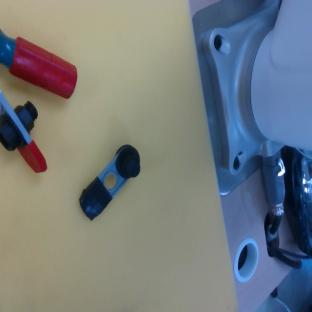part_1_bad: (72, 140, 150, 224)
part_1_good: (0, 84, 48, 178)
part_2_good: (0, 27, 84, 104)
